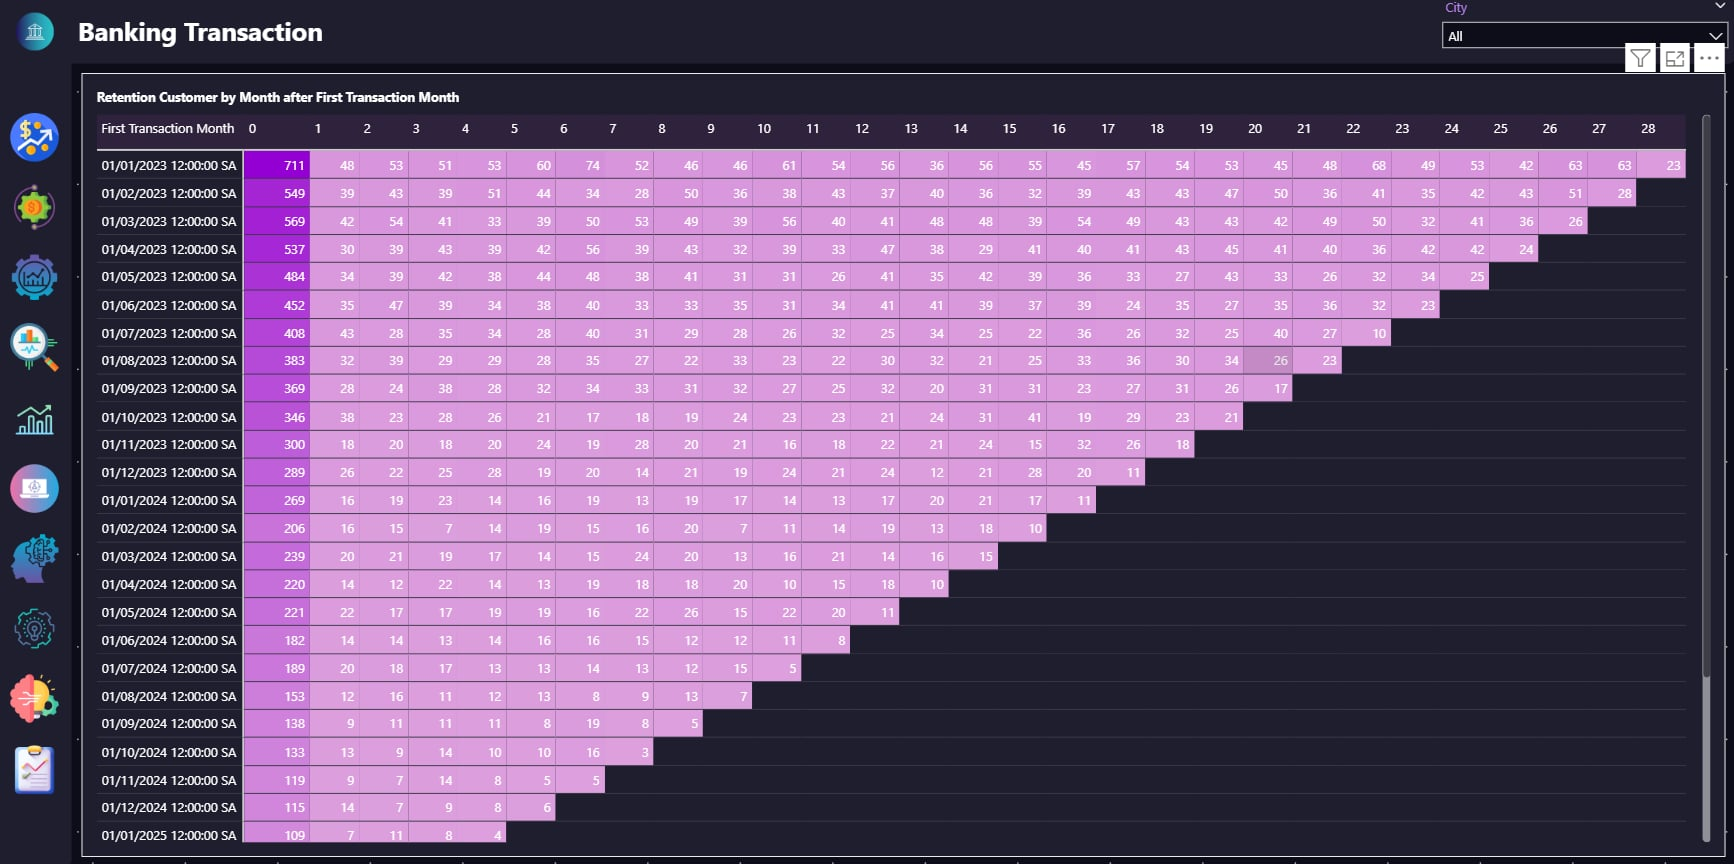

The dashboard page shown, as its layout file describes it:
{"tool":"powerbi","page":{"name":"Cohort Analysis","canvas":[1800,900],"ordinal":5},"visuals":[{"type":"shape","box":[65.9,0,1734.1,68.2],"z":0},{"type":"shape","box":[0,0,75,900],"z":1000},{"type":"image","box":[0,0,74.1,69.4],"z":2000},{"type":"slicer","fields":{"Values":["Dim_Location.BranchCity"]},"box":[1493.8,0,306.2,70],"z":3000},{"type":"pivotTable","title":"Retention Customer by Month after First Transaction Month","fields":{"Columns":["Fact_Transaction.MonthOffset"],"Values":["All Measures.Total Customers"],"Rows":["Fact_Transaction.FirstTransactionMonth"]},"box":[85,77.5,1706.2,813.8],"z":4000},{"type":"actionButton","box":[12,118.9,50,50],"z":5000},{"type":"actionButton","box":[12,191.8,50,50],"z":6000},{"type":"actionButton","box":[12,264.7,50,50],"z":7000},{"type":"actionButton","box":[12,337.7,50,50],"z":8000},{"type":"actionButton","box":[12,556.5,50,50],"z":9000},{"type":"actionButton","box":[12,483.5,50,50],"z":10000},{"type":"actionButton","box":[12,629.4,50,50],"z":11000},{"type":"actionButton","box":[12,410.6,50,50],"z":12000},{"type":"actionButton","box":[11.8,702.4,50,50],"z":13000},{"type":"actionButton","box":[11.8,775.3,50,50],"z":14000}]}

Visuals, with their boxes on the page's 1800x900 design canvas (x1, y1, x2, y2). These are canvas units, not pixel positions in the 1734x864 screenshot, which may show the page scaled, cropped or inside an application window:
shape: [x1=66, y1=0, x2=1800, y2=68]
shape: [x1=0, y1=0, x2=75, y2=900]
image: [x1=0, y1=0, x2=74, y2=69]
slicer - Dim_Location.BranchCity: [x1=1494, y1=0, x2=1800, y2=70]
"Retention Customer by Month after First Transaction Month" pivotTable: [x1=85, y1=78, x2=1791, y2=891]
actionButton: [x1=12, y1=119, x2=62, y2=169]
actionButton: [x1=12, y1=192, x2=62, y2=242]
actionButton: [x1=12, y1=265, x2=62, y2=315]
actionButton: [x1=12, y1=338, x2=62, y2=388]
actionButton: [x1=12, y1=556, x2=62, y2=606]
actionButton: [x1=12, y1=484, x2=62, y2=534]
actionButton: [x1=12, y1=629, x2=62, y2=679]
actionButton: [x1=12, y1=411, x2=62, y2=461]
actionButton: [x1=12, y1=702, x2=62, y2=752]
actionButton: [x1=12, y1=775, x2=62, y2=825]
